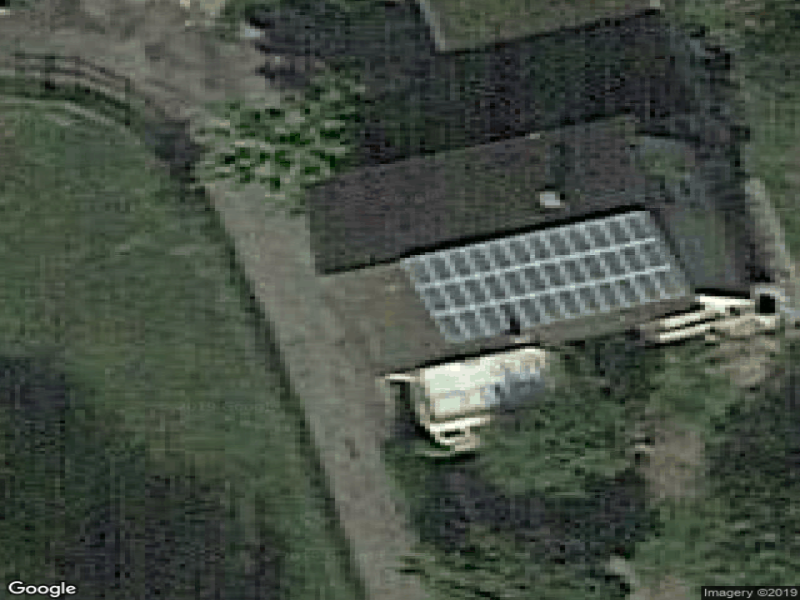pv: (403, 211, 687, 343)
